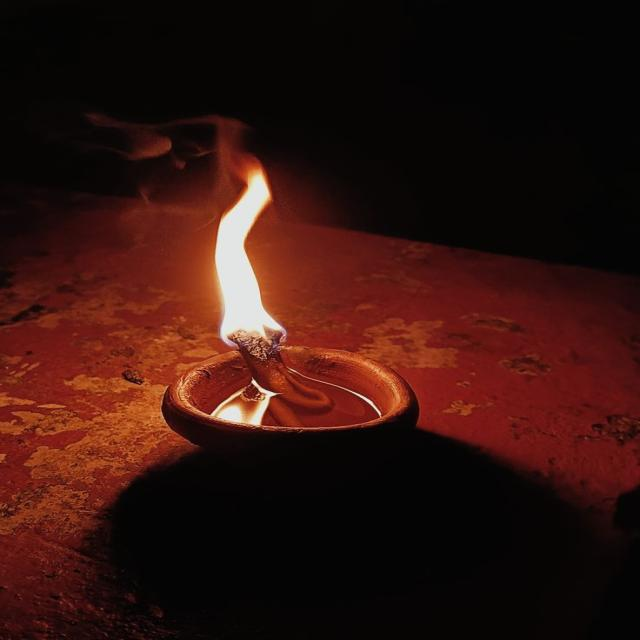fire: (213, 168, 288, 351)
